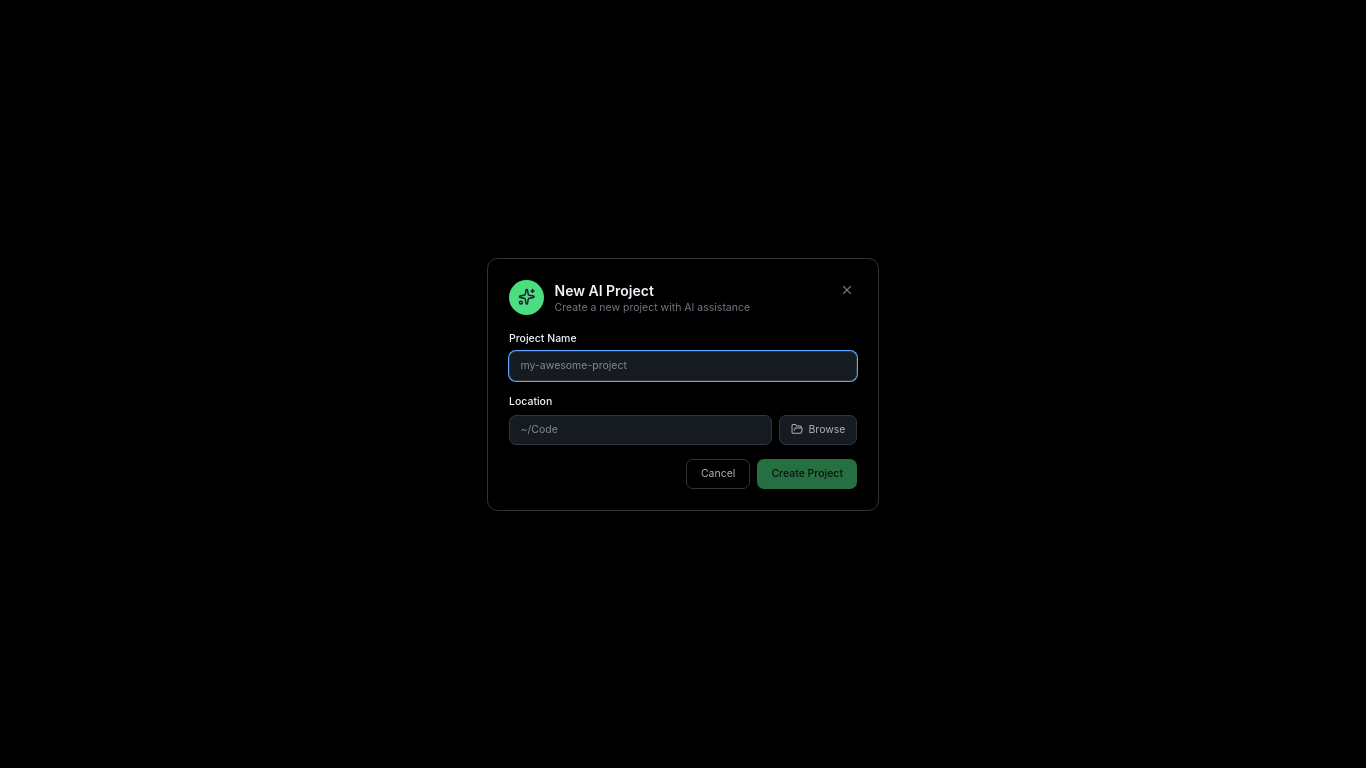
it: NewProjectDialog › enables Create button when name is provided
Type "test" into the field with placeholder "my-awesome-project".
click(683, 366); type("test")  # box [509,351,857,381]
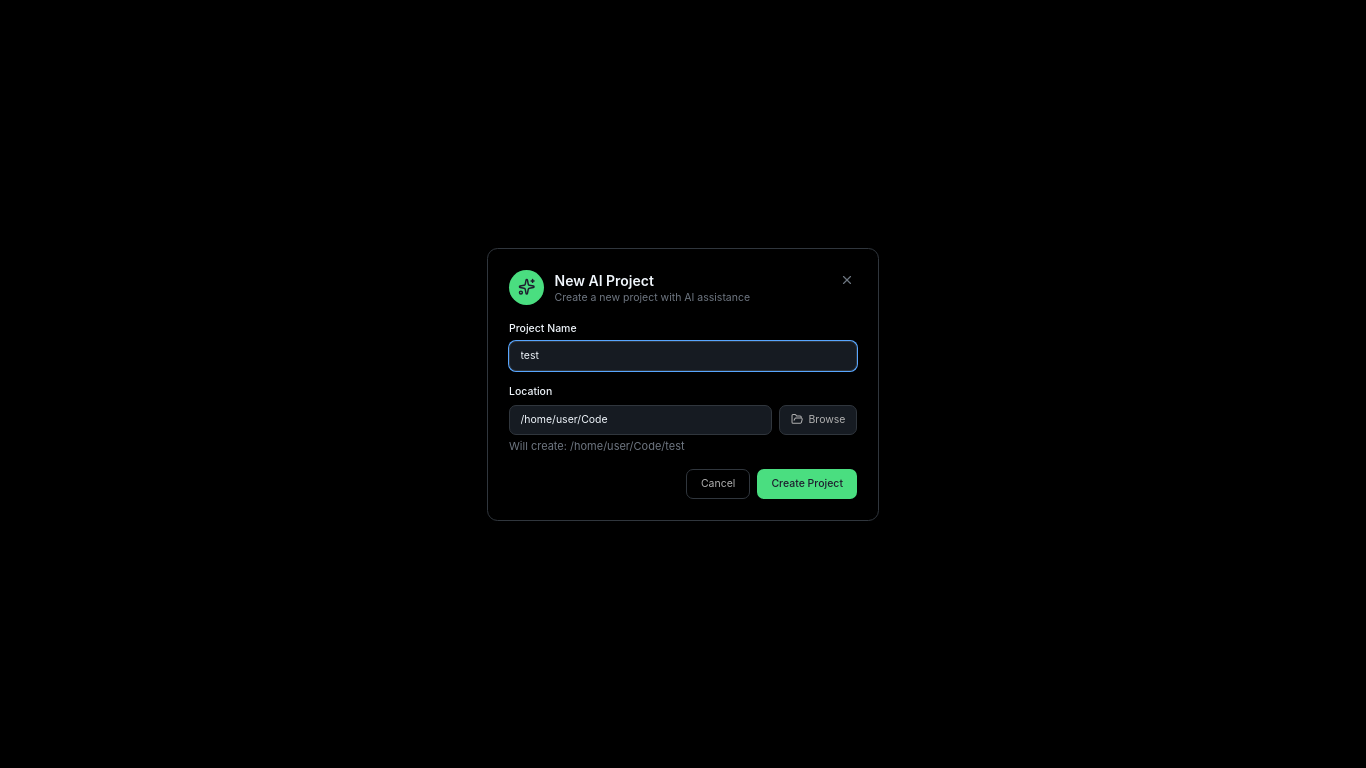
Expected: the button "Create Project" is enabled, [757,468,857,498]
